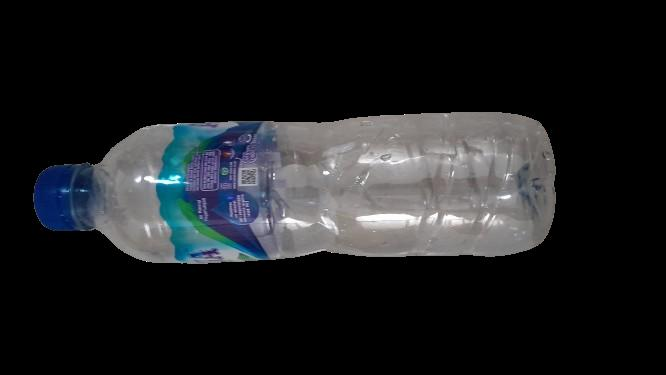Plastik: (23, 114, 564, 267)
